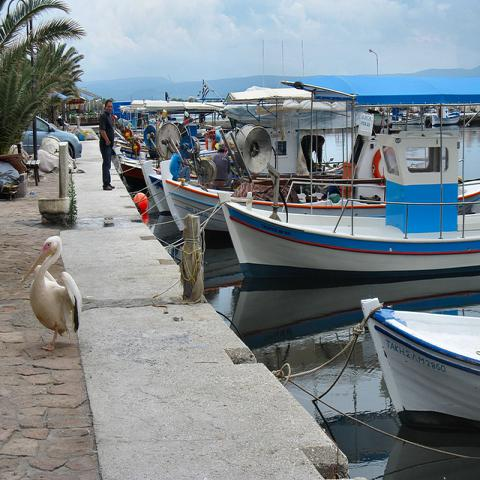car: (22, 116, 82, 158), (0, 162, 19, 196)
